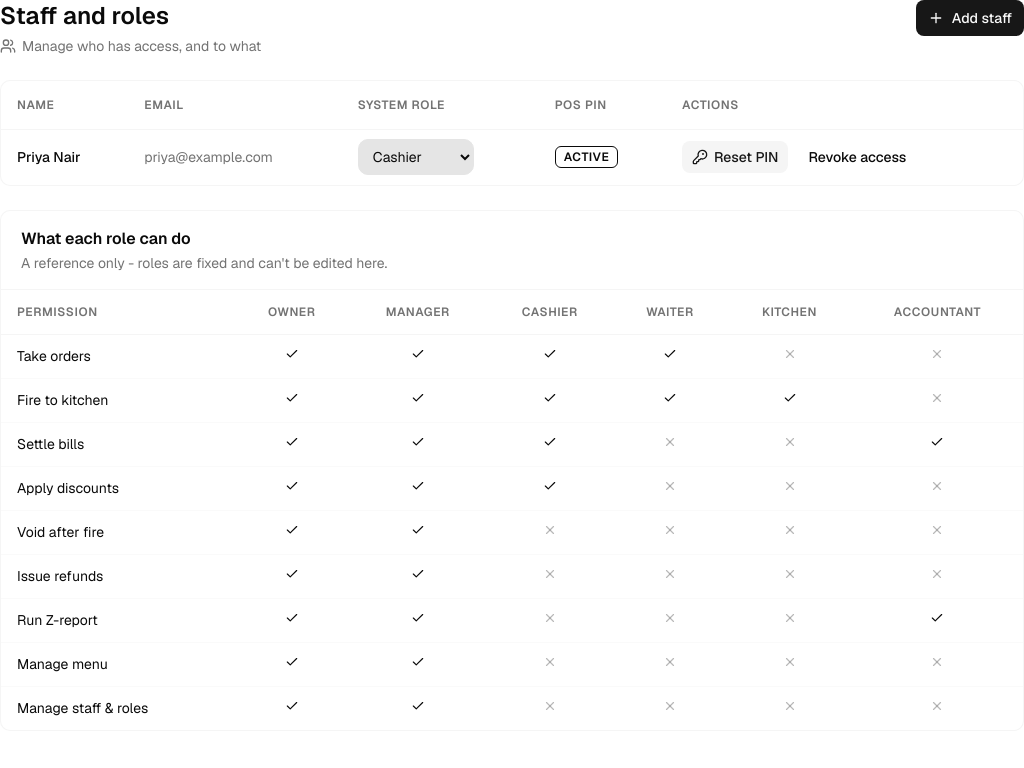
Test: Staff › revoking a PIN shows a plain-language confirm naming the person, and applies on confirm
The width and height of the screenshot is (1024, 768).
Expected: the row with test id "staff-row-s1" is shown, [1,129,1023,185]
Click the button with test id "staff-revoke-pin-s1": (857, 157) [796,141,918,173]
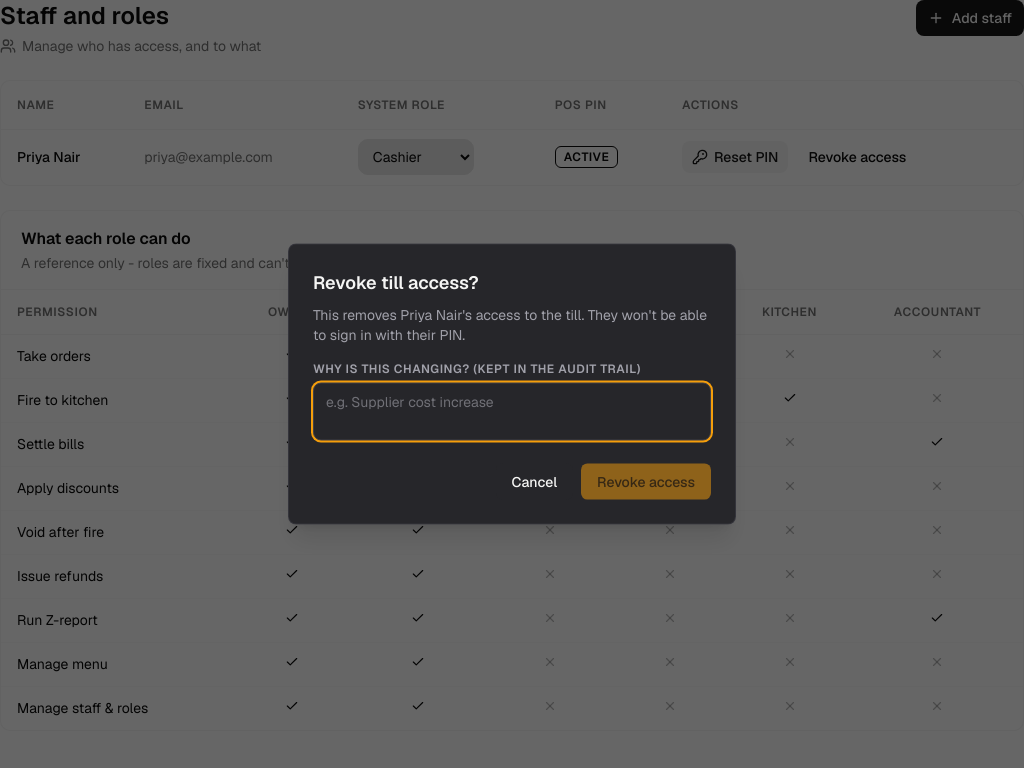
Now the text "This removes Priya Nair's access to the till." is shown, box [313,306,707,344]
In the text box with test id "confirm-reason": (512, 412) [313,382,711,440], type "Left the company"
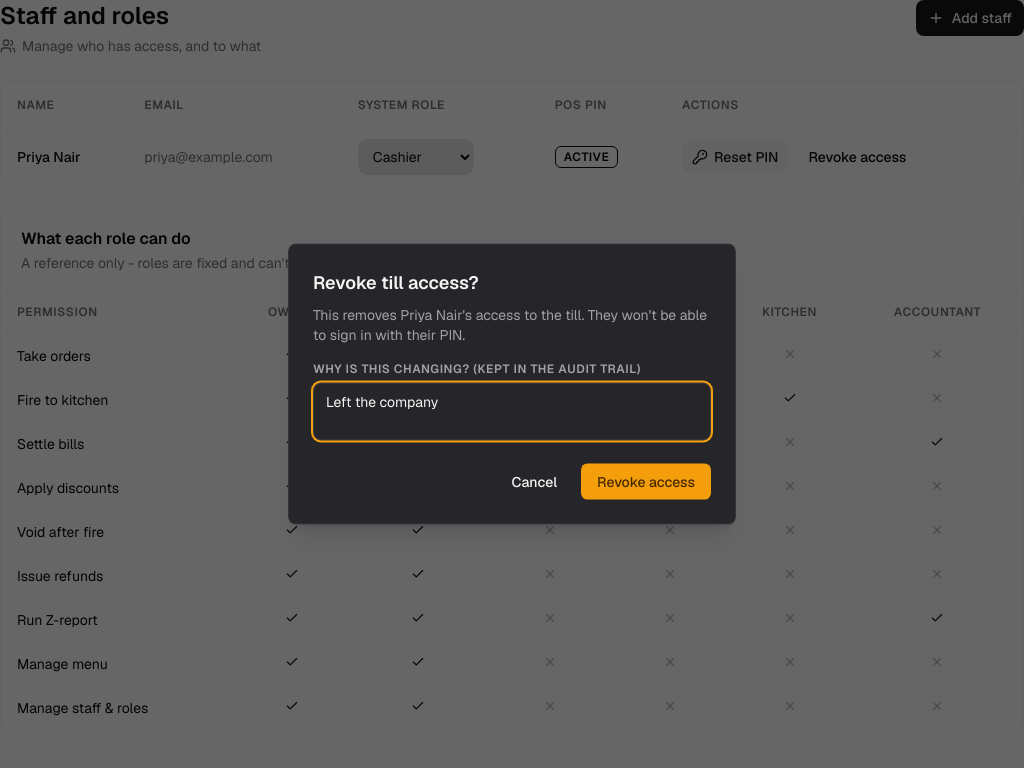
Click the button with test id "confirm-submit": (646, 482) [581,464,711,500]
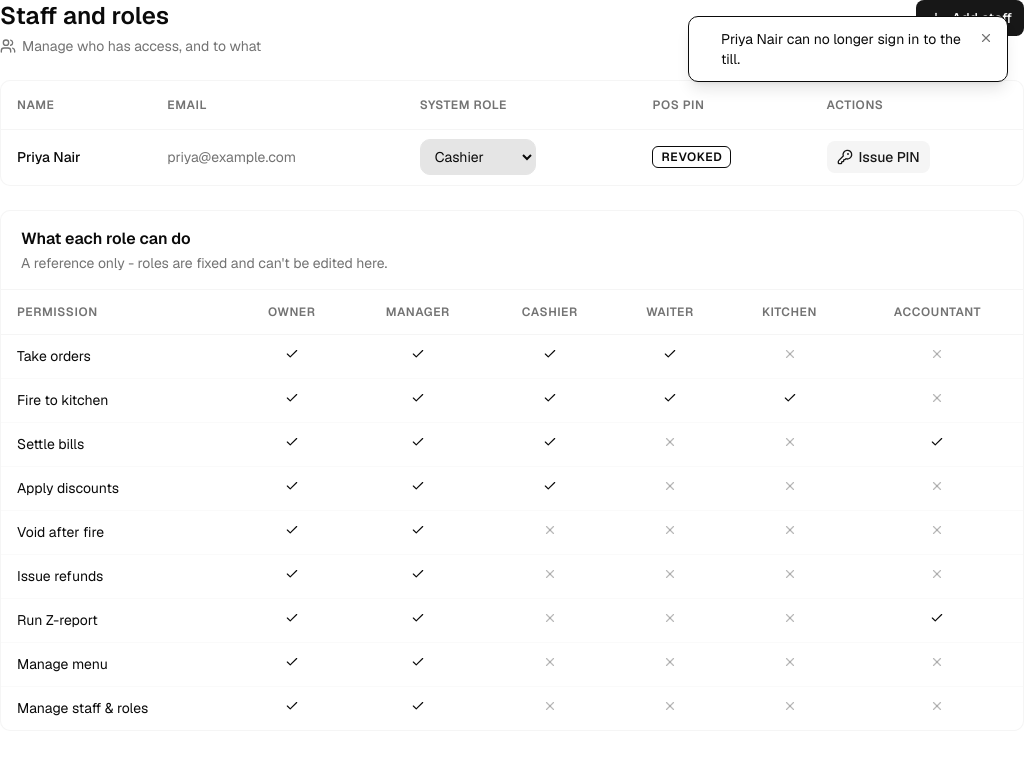
Now the text with test id "staff-pin-status-s1" reads "Revoked", box [662,149,722,165]
Now the button with test id "staff-issue-pin-s1" is shown, box [827,141,930,173]
